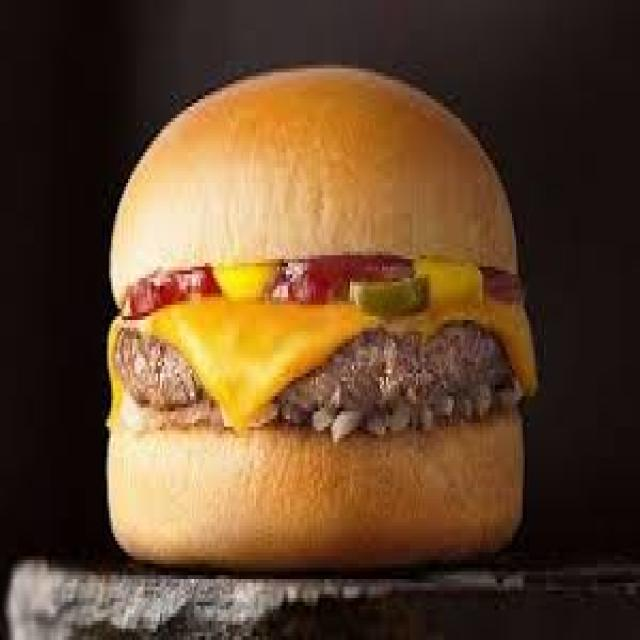햄버거: (99, 76, 534, 562)
